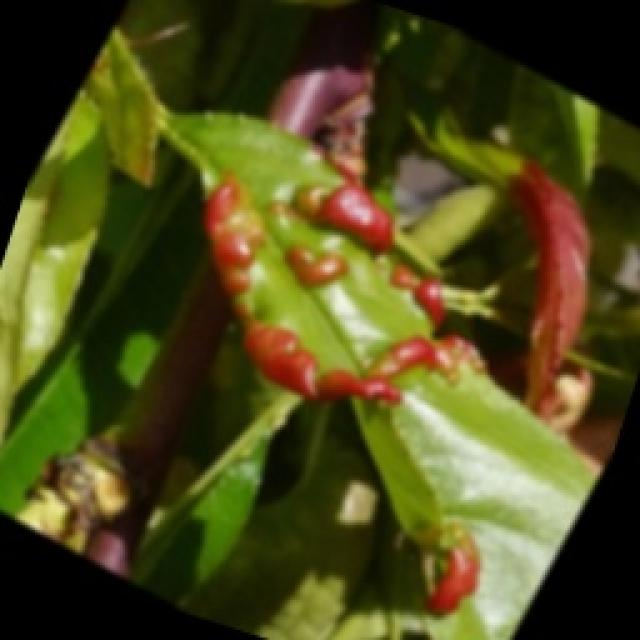peach_leaf_curl: (183, 137, 509, 444)
